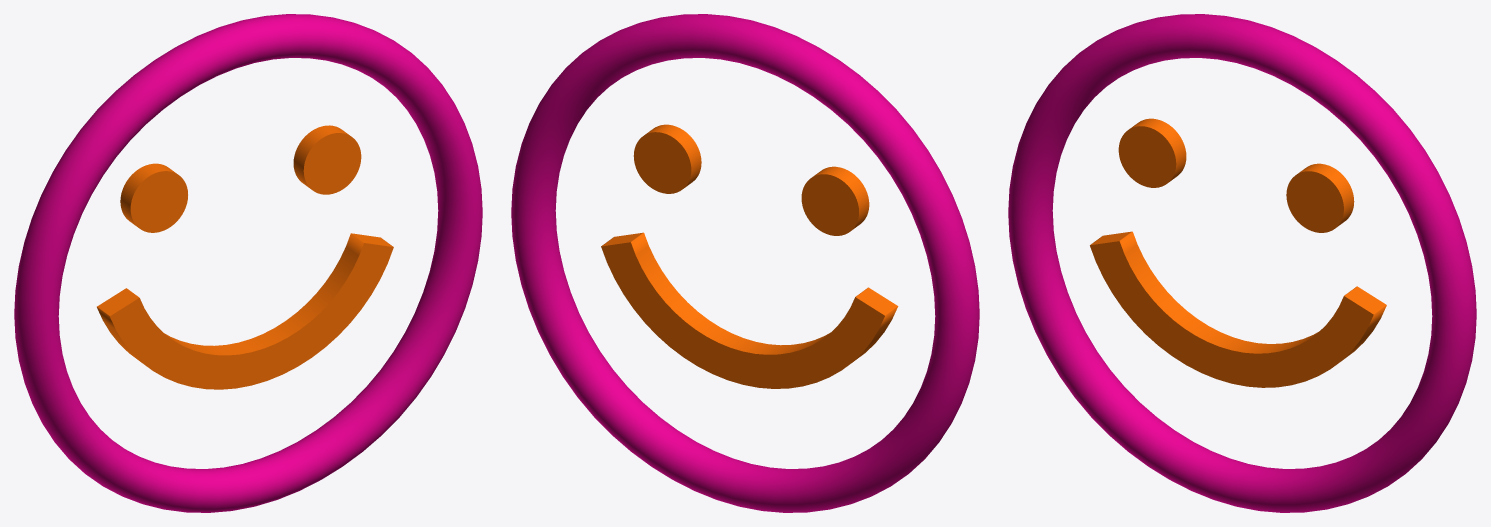
File: smileFace.glb
The picture shows the model from 3 angles, left to right: view 1: azimuth 30°, elevation 25°; view 2: azimuth 150°, elevation 25°; view 3: azimuth 330°, elevation 25°; orthographic projection.
Visible parts, largest first — view 1: torus, Curve.003, Curve.002, Curve.001; view 2: torus, Curve.003, Curve.001, Curve.002; view 3: torus, Curve.003, Curve.001, Curve.002.
Boxes of the visible parts, x1,y1,x2,y2 form: torus: [14, 14, 482, 512]; Curve.003: [97, 233, 393, 389]; Curve.002: [293, 125, 361, 194]; Curve.001: [120, 163, 187, 232]; torus: [511, 14, 979, 512]; Curve.003: [601, 232, 898, 388]; Curve.001: [801, 166, 869, 235]; Curve.002: [633, 124, 701, 193]; torus: [1008, 14, 1476, 512]; Curve.003: [1090, 231, 1386, 387]; Curve.001: [1118, 118, 1186, 187]; Curve.002: [1286, 163, 1354, 232].
Bounding box in the file's own units: 7.2 × 7.2 × 0.6496.
